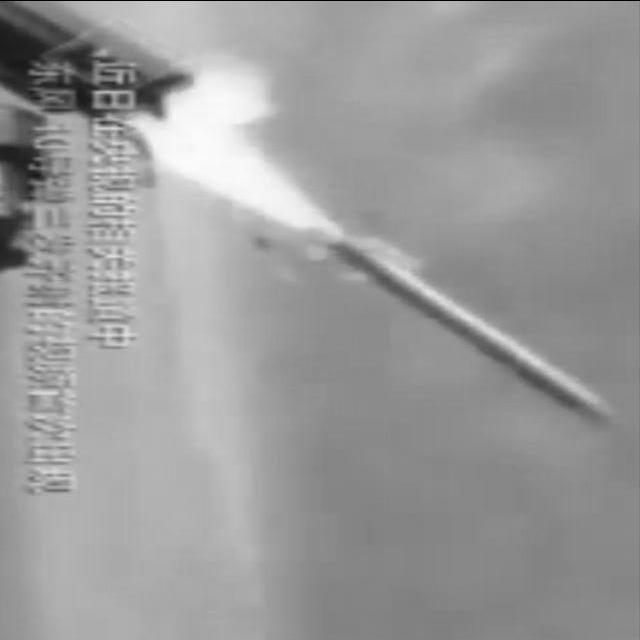missile: (314, 230, 630, 431)
